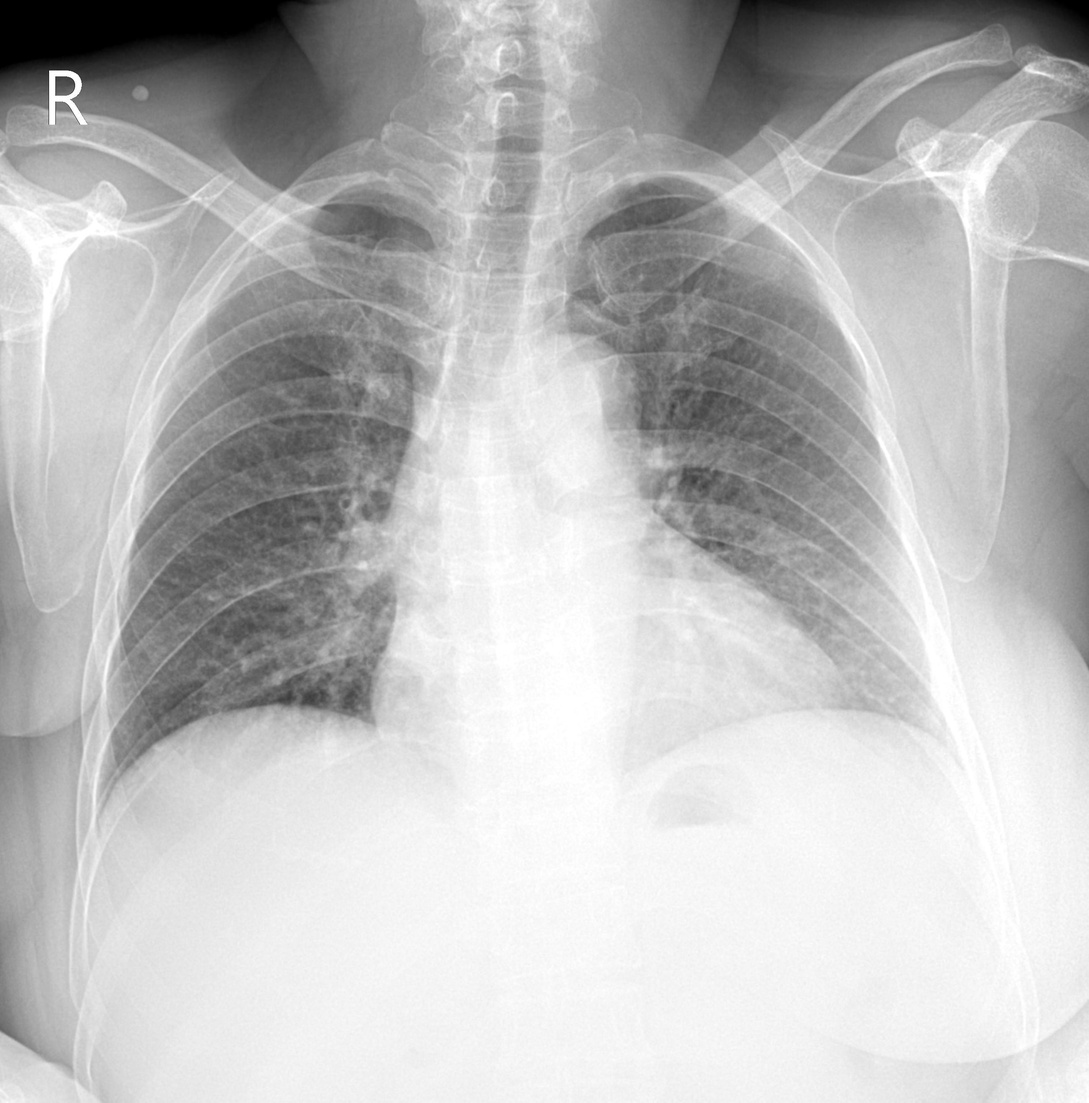Aortic enlargement: (501, 329, 647, 465)
Cardiomegaly: (365, 632, 865, 762)
